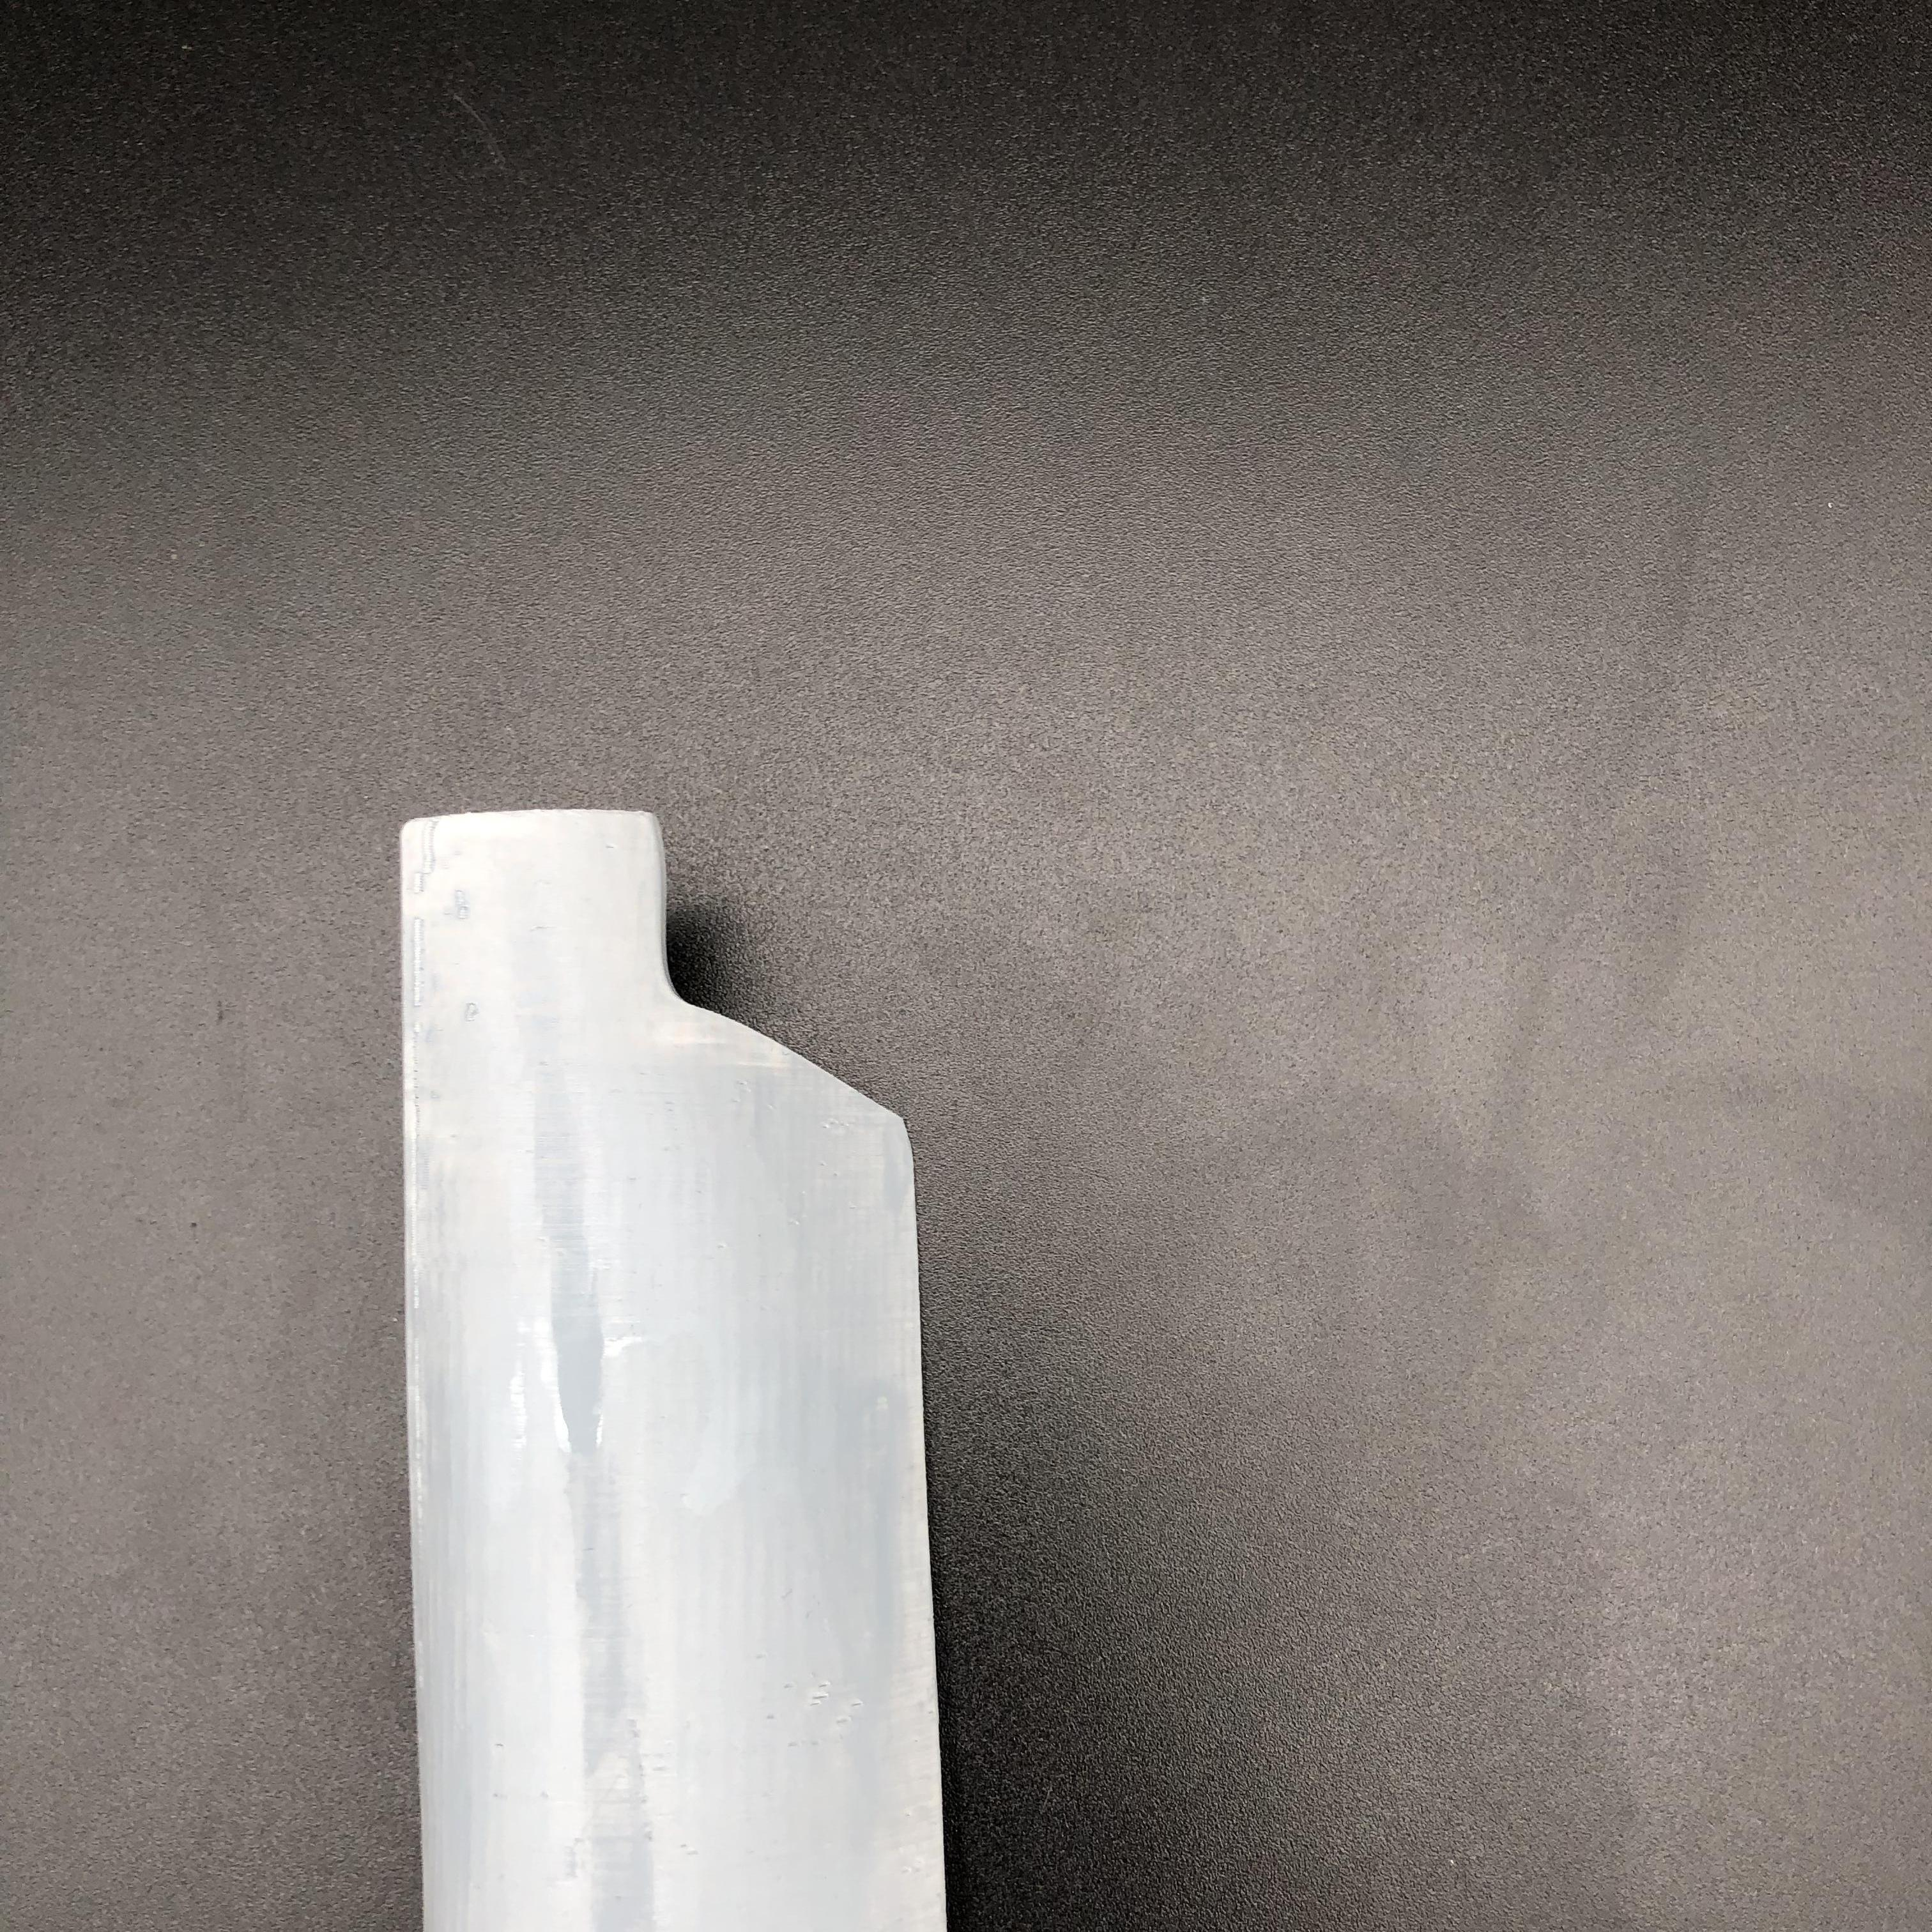fracture: (619, 814, 927, 1143)
